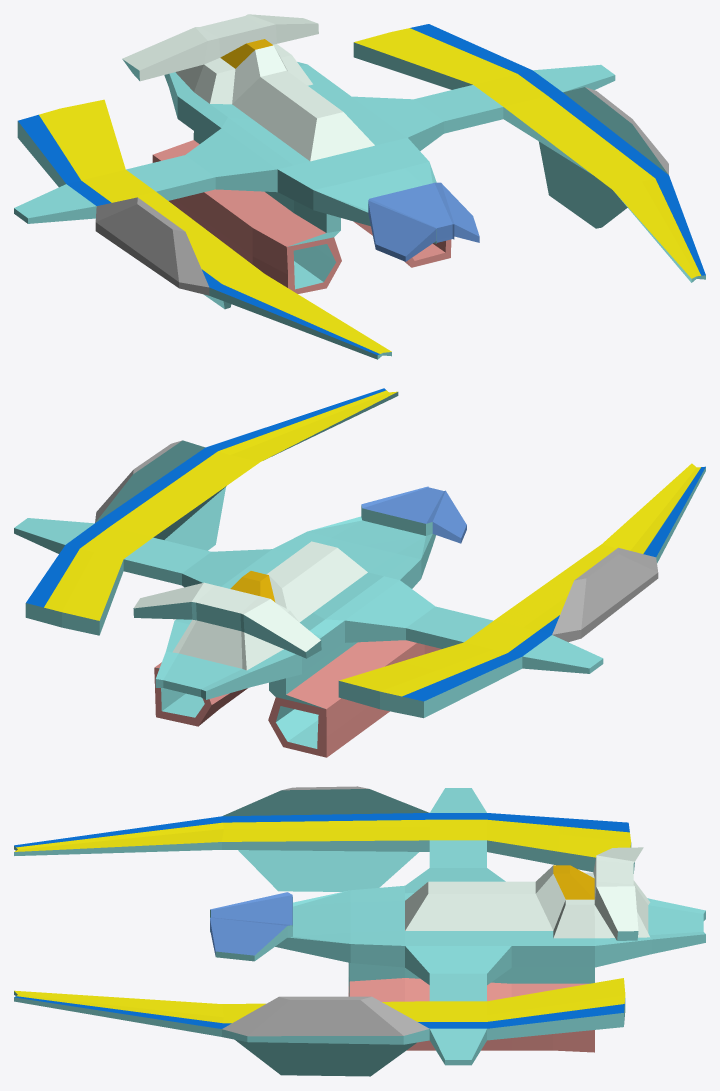
The picture shows the model from 3 angles, top to bottom: view 1: azimuth 30°, elevation 25°; view 2: azimuth 150°, elevation 25°; view 3: azimuth 270°, elevation 25°; orthographic projection. The views are drawn at different scales.
Visible parts, largest first — view 1: Cube; view 2: Cube; view 3: Cube.
Part boxes in pixels (bbox=[...]): Cube: bbox=[14, 14, 705, 359]; Cube: bbox=[14, 388, 705, 757]; Cube: bbox=[14, 786, 705, 1076].
Size of the model in its own units: 14.82 by 3.66 by 15.94.
